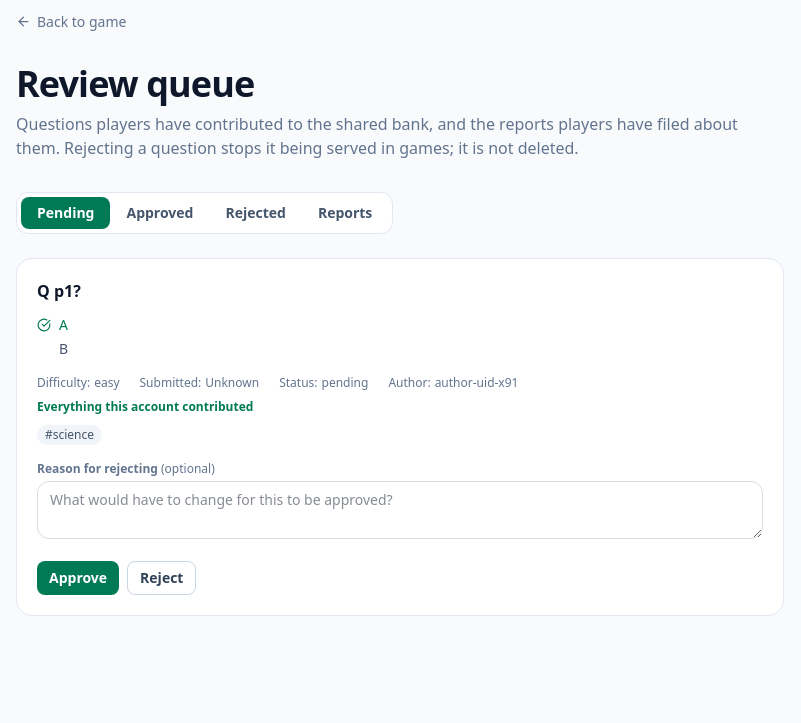
ReviewQueueComponent: everything one account contributed (FEAT-006) › opens the account from a card, hiding the queue rather than destroying it
Click the button with test id "open-author-view" at (145, 406), box [37,398,253,414]
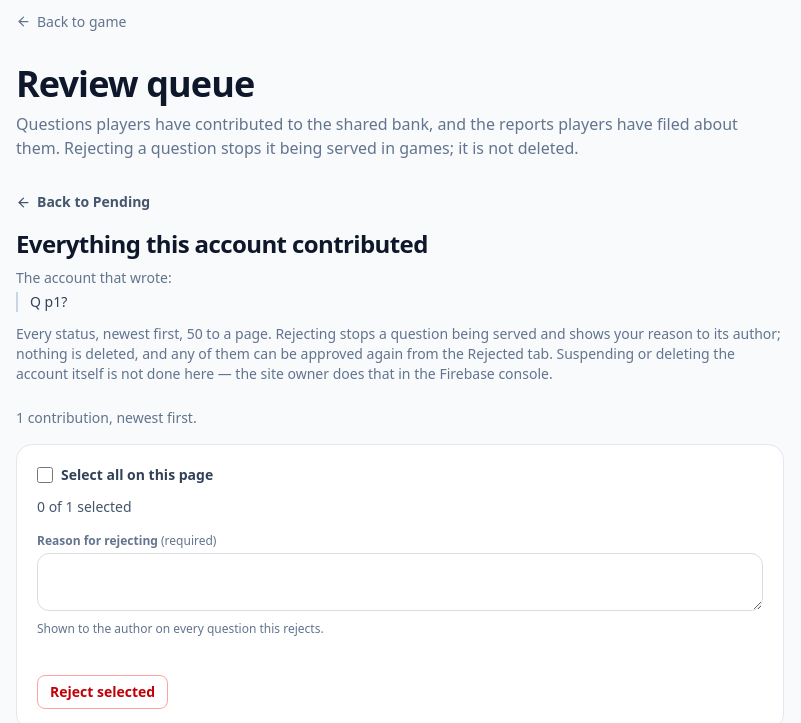
Expected: the button with test id "close-author-view" reads "Back to Pending", [16,192,150,212]
